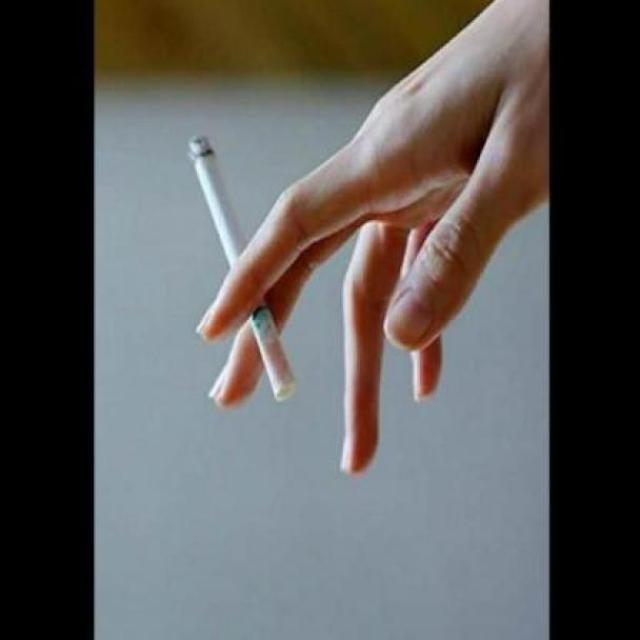rokok: (182, 130, 298, 398)
